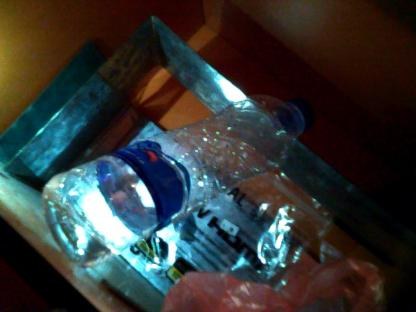Plastic Bottle: (38, 90, 315, 266)
